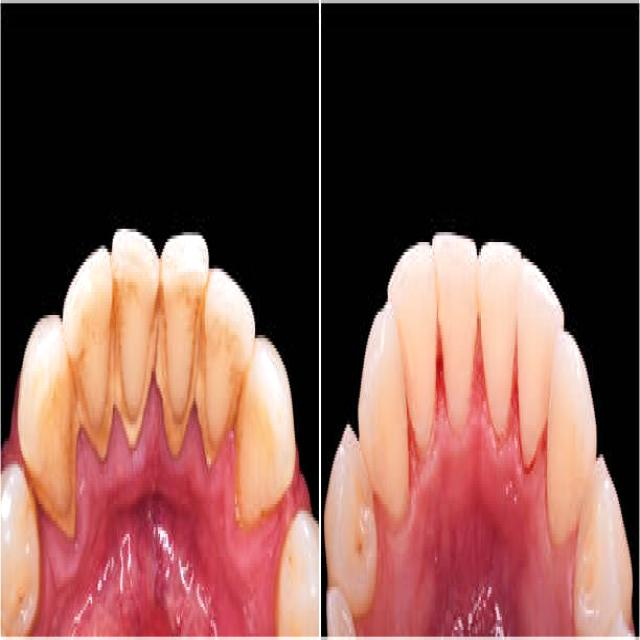calculus: (156, 294, 198, 454), (133, 318, 156, 458), (114, 305, 132, 444), (216, 381, 242, 474), (97, 318, 113, 458), (72, 365, 96, 451), (38, 491, 75, 531), (198, 318, 208, 464), (73, 391, 79, 494)
